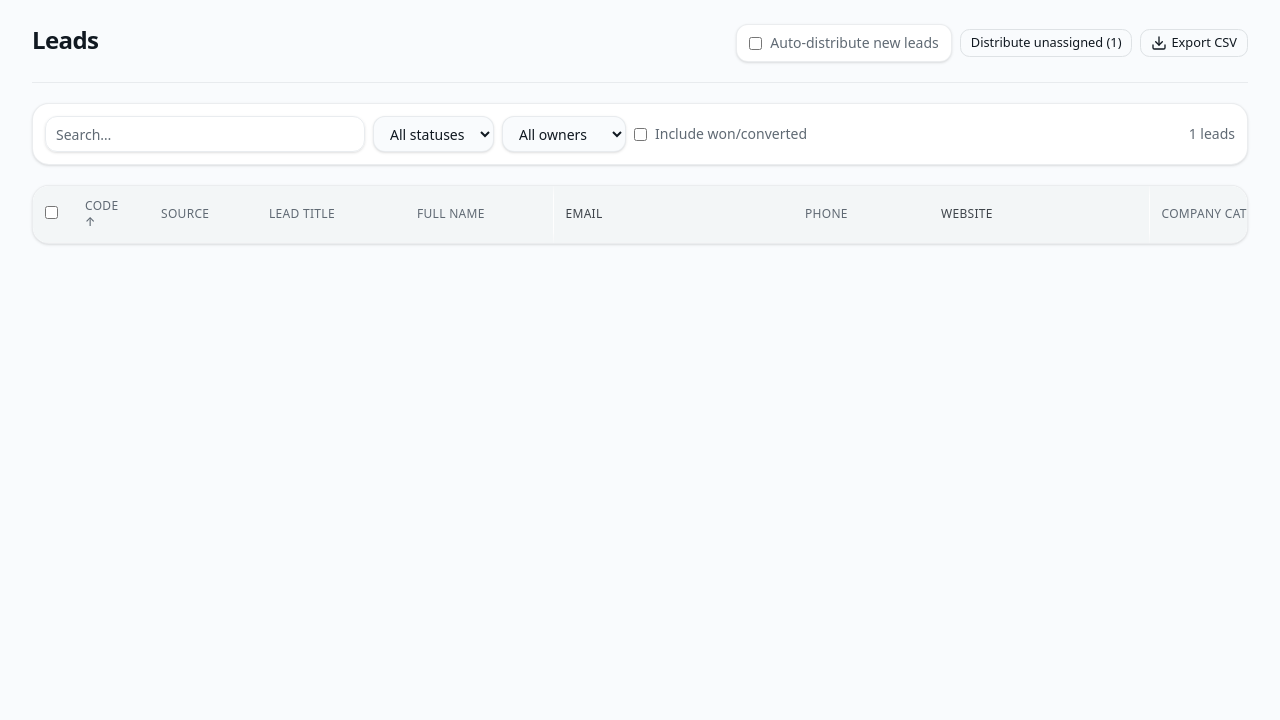
Test: LeadsListPage distribute confirmation › clicking Distribute opens a confirm dialog instead of distributing immediately
The width and height of the screenshot is (1280, 720).
Click the button "Distribute unassigned (1)".
click(1046, 43)  # box top-left (960, 29), bottom-right (1132, 57)
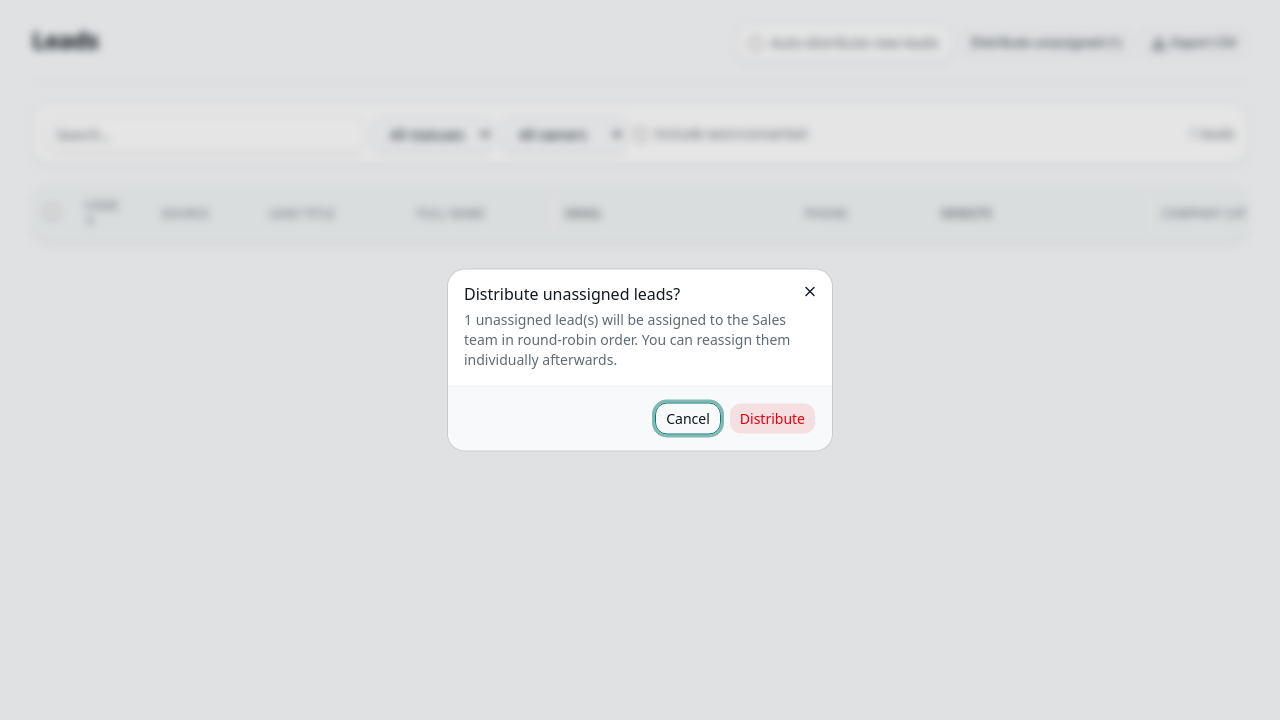
Expected: the dialog is shown, top-left (448, 270), bottom-right (832, 450)
